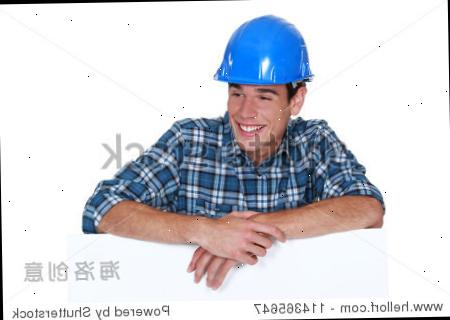helmet: (209, 12, 318, 88)
no_wear: (96, 121, 372, 210)
